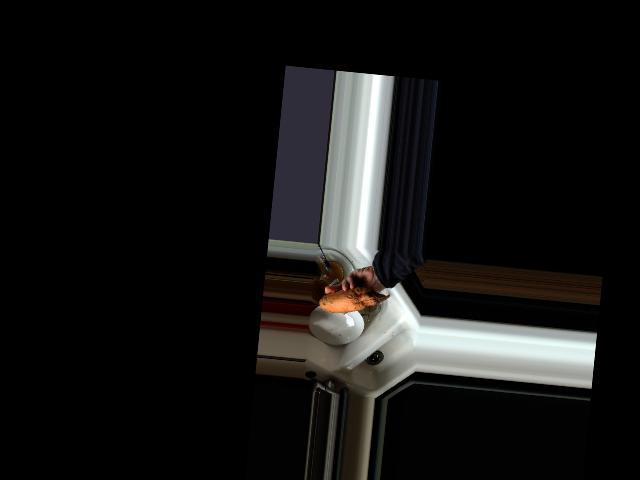sweet_potato: (318, 283, 390, 320)
